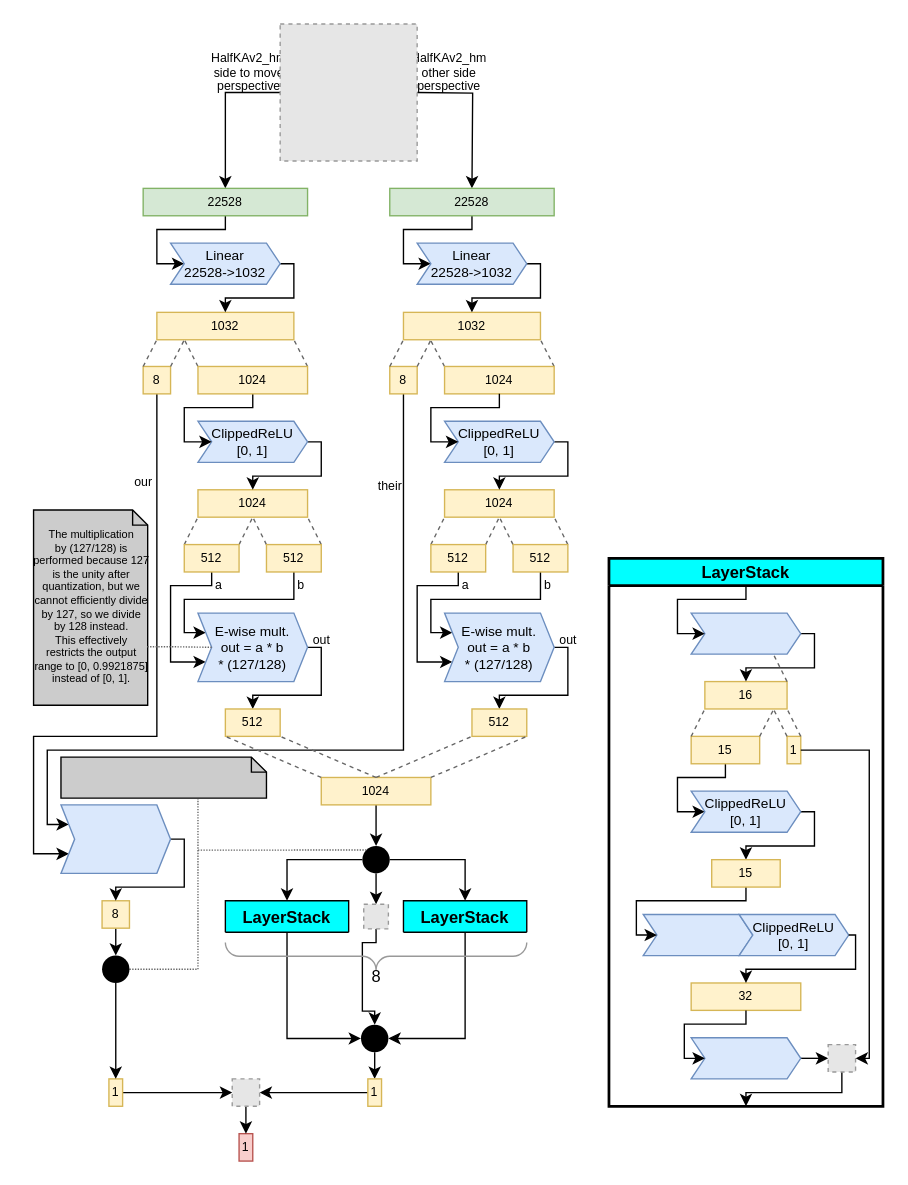
Some shapes in this 908 by 1185 pixel diagram are drawn without their labels. Grey dashed boxes stand in for pictures. The shapes that lost their labels are listed below. From the top down, each one's box as (x1, y1, x2, y2) in pixels, then its label:
(690, 612, 801, 654): Linear 1024->16
(60, 756, 266, 798): Choice based on (popcount(pos.pieces()) - 1) / 4
(60, 804, 171, 873): Average perspectives (our - their) / 2
(642, 913, 753, 956): Linear 15->32
(690, 1036, 801, 1079): Linear 32->1
